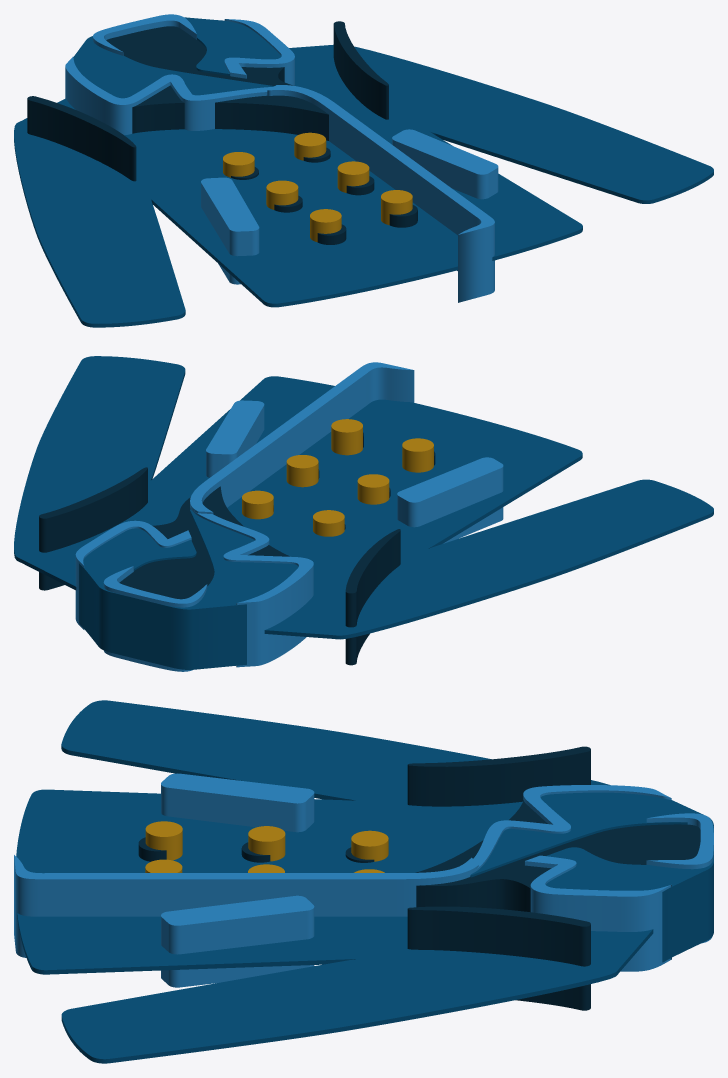
File: emoji_u1f9e5.glb
The picture shows the model from 3 angles, top to bottom: view 1: azimuth 30°, elevation 25°; view 2: azimuth 150°, elevation 25°; view 3: azimuth 270°, elevation 25°; orthographic projection. The views are drawn at different scales.
Visible parts, largest first — view 1: emoji_u1f9e5; view 2: emoji_u1f9e5; view 3: emoji_u1f9e5.
Part boxes in pixels (x1,y1,x2,y2): emoji_u1f9e5: [14, 14, 713, 327]; emoji_u1f9e5: [14, 356, 713, 671]; emoji_u1f9e5: [14, 700, 713, 1063].
Bounding box in the file's own units: 0.0348 × 0.0038 × 0.0287.
